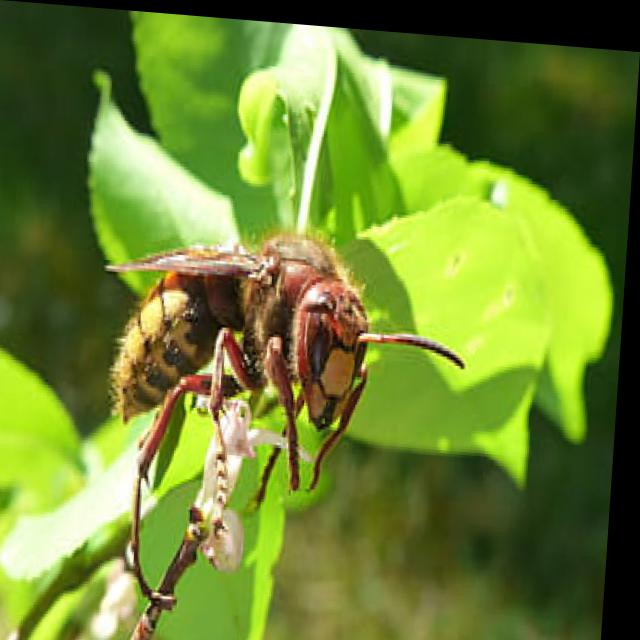Vespa Crabro: (47, 175, 499, 619)
